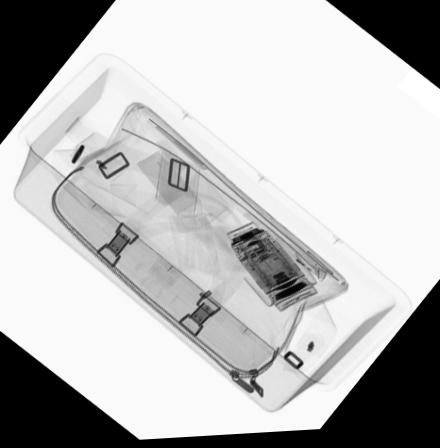Lighter: (267, 236, 330, 287)
